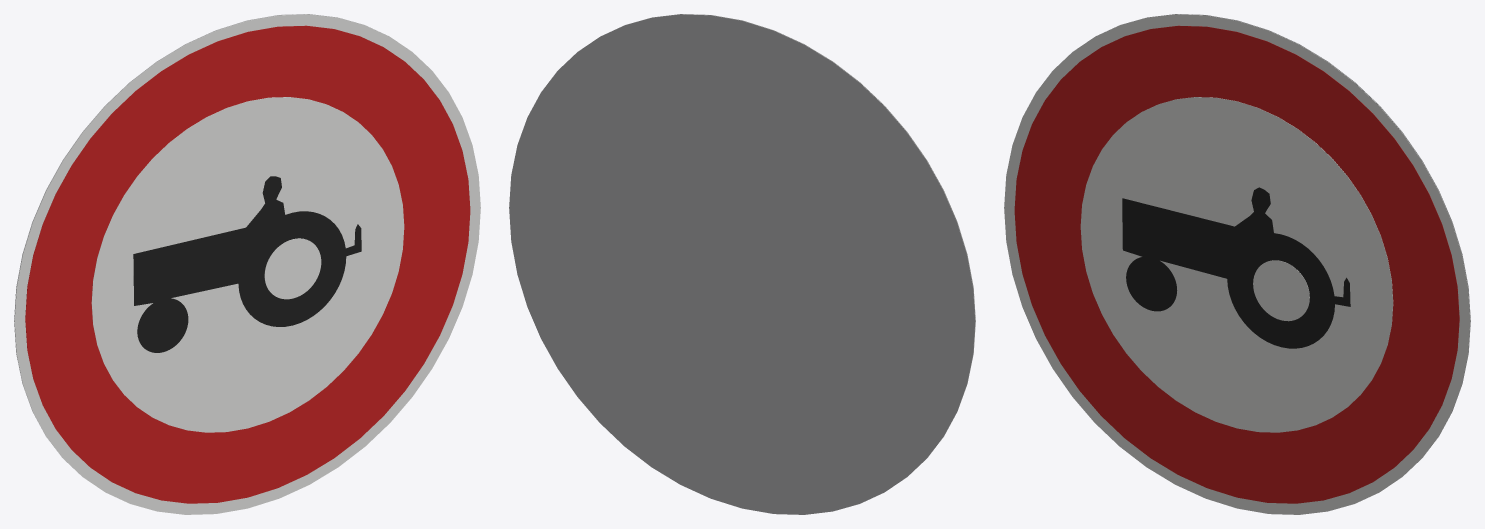
The picture shows the model from 3 angles, left to right: view 1: azimuth 30°, elevation 25°; view 2: azimuth 150°, elevation 25°; view 3: azimuth 330°, elevation 25°; orthographic projection.
Visible parts, largest first — view 1: B9d_p01, B9d_p02, B9d_p00, B9d_p03, B9d_p04, B9d_dos; view 2: B9d_dos, B9d_p00; view 3: B9d_p01, B9d_p02, B9d_p00, B9d_p03, B9d_p04, B9d_dos.
Part boxes in pixels (bbox=[...]): B9d_p01: bbox=[25, 25, 470, 503]; B9d_p02: bbox=[91, 97, 404, 432]; B9d_p00: bbox=[14, 14, 480, 514]; B9d_p03: bbox=[133, 176, 361, 352]; B9d_p04: bbox=[264, 238, 321, 299]; B9d_dos: bbox=[14, 14, 385, 473]; B9d_dos: bbox=[509, 14, 975, 514]; B9d_p00: bbox=[604, 14, 975, 473]; B9d_p01: bbox=[1014, 25, 1459, 503]; B9d_p02: bbox=[1080, 97, 1393, 432]; B9d_p00: bbox=[1004, 14, 1470, 514]; B9d_p03: bbox=[1122, 187, 1350, 348]; B9d_p04: bbox=[1253, 260, 1309, 321]; B9d_dos: bbox=[1099, 14, 1470, 473].
Size of the model in its own units: 0.85 by 0.8498 by 0.0035.
